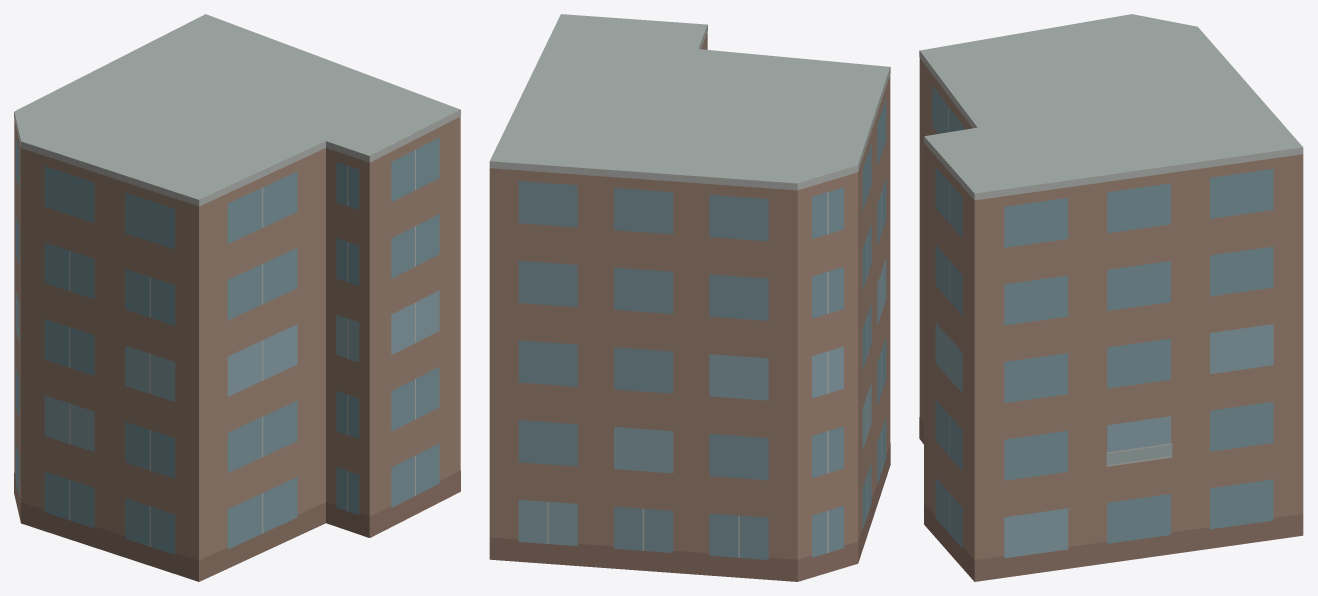
Rendered from survey-upis-32861208.glb.
3 views of the same model, side by side, from view 1: azimuth 30°, elevation 25°; view 2: azimuth 150°, elevation 25°; view 3: azimuth 270°, elevation 25° (orthographic). The views are drawn at different scales.
Visible parts, largest first — view 1: survey-upis-32861208.tmp; view 2: survey-upis-32861208.tmp; view 3: survey-upis-32861208.tmp.
Part boxes in pixels (box(x1,y1,x2,y2)): survey-upis-32861208.tmp: box(14, 14, 460, 581); survey-upis-32861208.tmp: box(489, 14, 890, 581); survey-upis-32861208.tmp: box(919, 14, 1303, 581).
Bounding box in the file's own units: 13.91 × 14 × 12.56.
